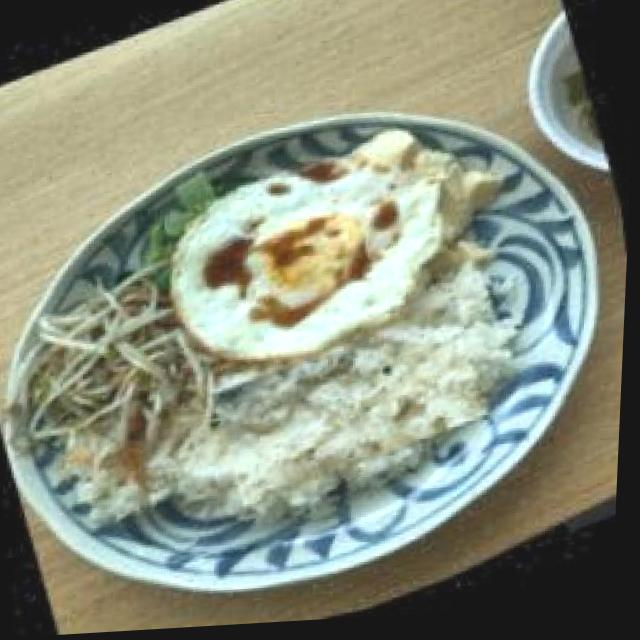fried_eggs: (161, 133, 460, 387)
mung_bean_sprouts: (29, 292, 204, 448)
rice: (205, 304, 505, 518)
